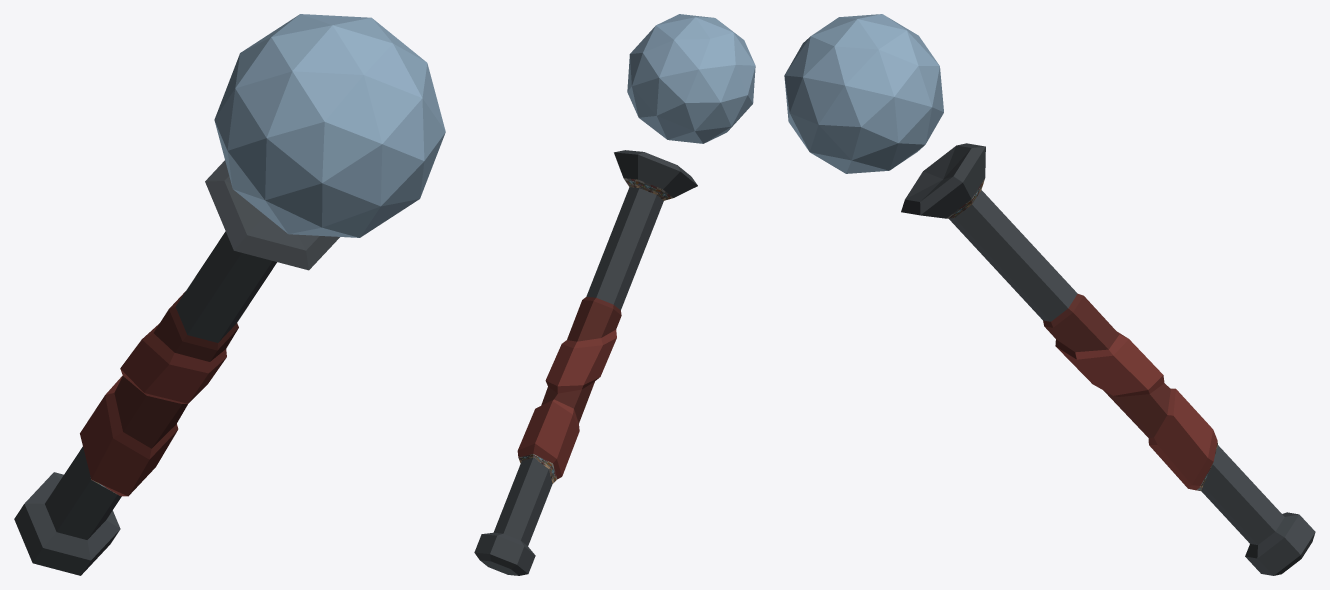
Rendered from fk-sceptre-07.glb.
The picture shows the model from 3 angles, left to right: view 1: azimuth 30°, elevation 25°; view 2: azimuth 150°, elevation 25°; view 3: azimuth 270°, elevation 25°; orthographic projection. The views are drawn at different scales.
Parts seen in each view (by area): view 1: fk-sceptre-07; view 2: fk-sceptre-07; view 3: fk-sceptre-07.
Part boxes in pixels (x1,y1,x2,y2): fk-sceptre-07: (14,14,445,575); fk-sceptre-07: (474,14,755,575); fk-sceptre-07: (784,14,1315,575).
Size of the model in its own units: 0.1376 by 0.5027 by 0.4454.
Materials: 1 (1 with a texture image).
